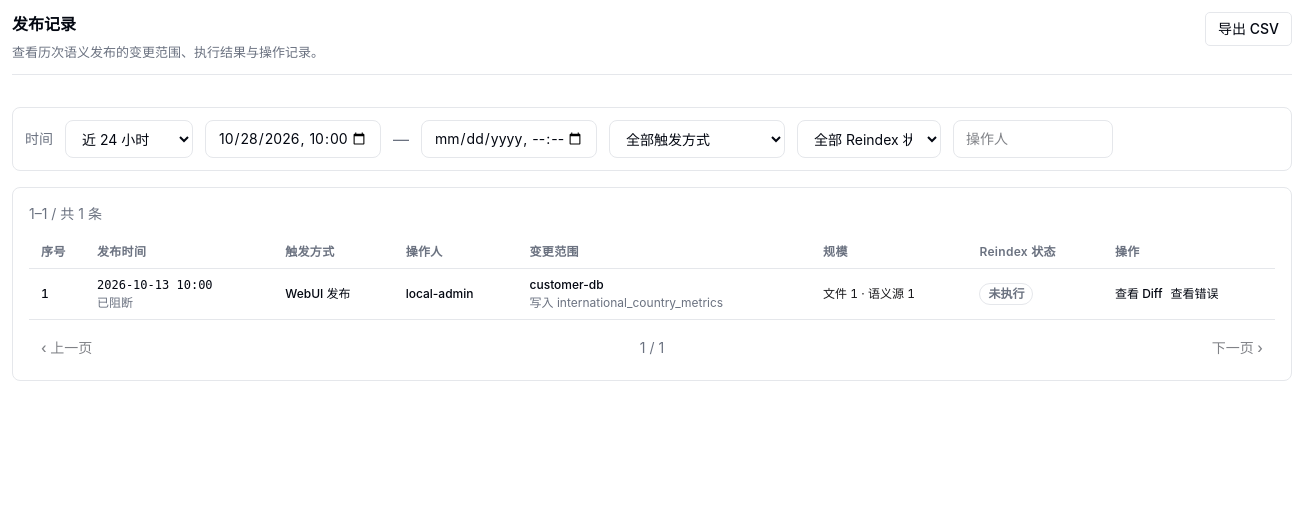
PublishHistory › shows contractGate.blocking when a blocked release has no validation issues
What coordinates should you click on to do the following:
click the button "查看错误"
I would click on:
 (1194, 294)
Its box is x1=1170 y1=286 x2=1218 y2=302.
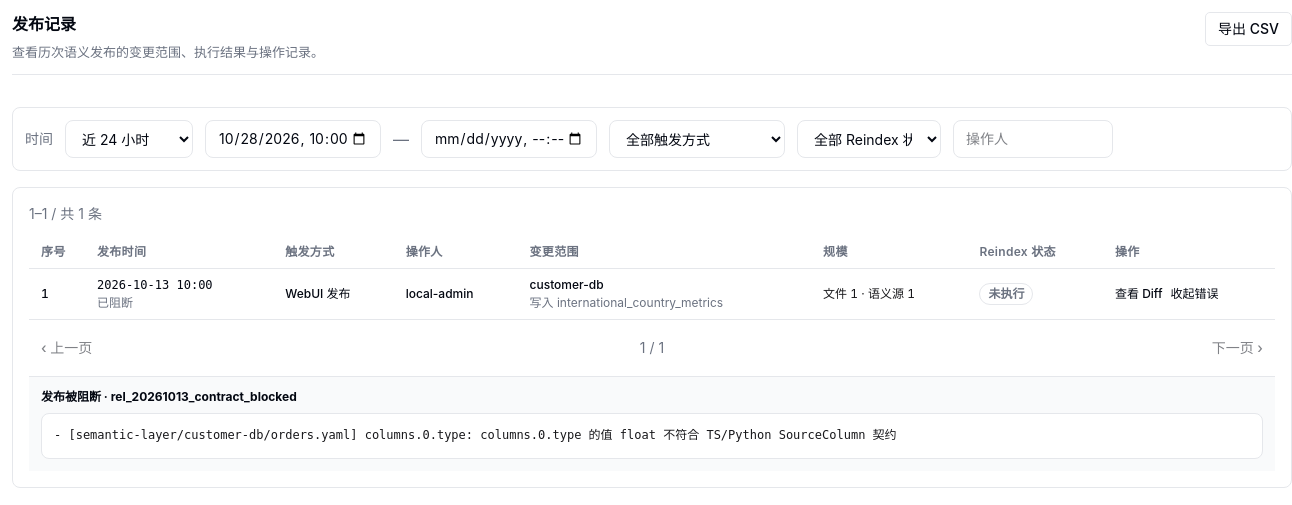
Expected: the element with test id "publish-history-expanded-panel" shows "columns.0.type", x1=54 y1=428 x2=897 y2=442
Expected: the element with test id "publish-history-expanded-panel" shows "float", x1=54 y1=428 x2=897 y2=442
Expected: the element with test id "publish-history-expanded-panel" shows "semantic-layer/customer-db/orders.yaml", x1=54 y1=428 x2=897 y2=442
